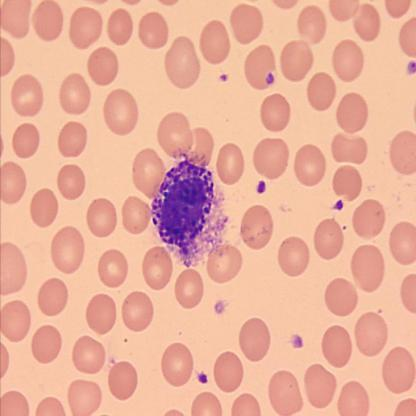Basophil: (146, 156, 217, 251)
